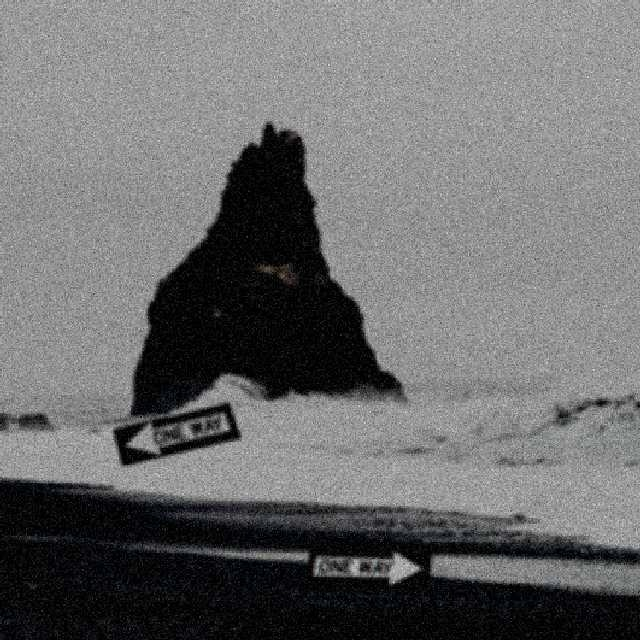ONE_WAY_ left: (111, 401, 240, 465)
ONE_WAY_ right: (302, 546, 431, 587)
